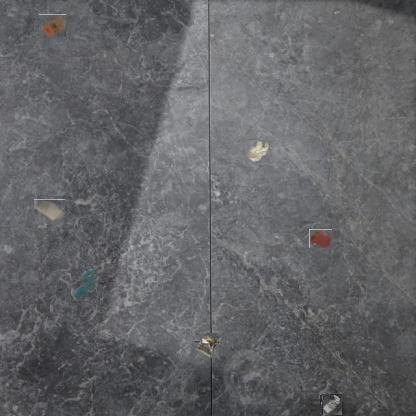dirty: (35, 198, 64, 226), (39, 14, 66, 40), (245, 139, 270, 165), (195, 333, 219, 358), (321, 395, 341, 416)
liquid: (71, 269, 97, 301), (309, 229, 332, 248)
